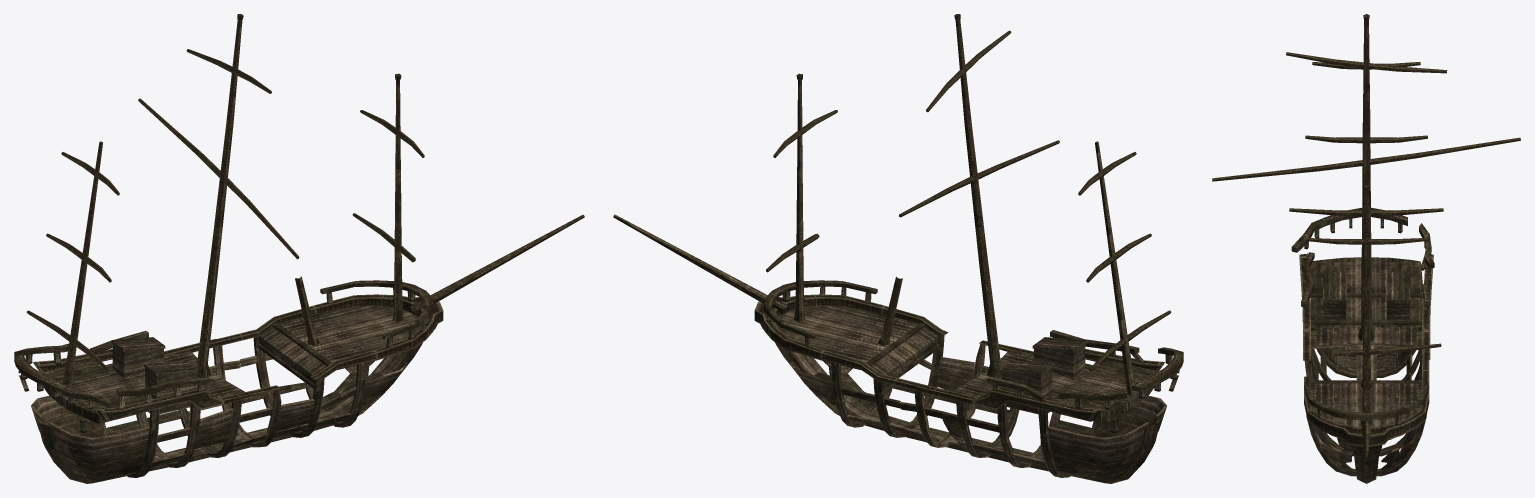
Rendered from ships_brokenbody00.glb.
The picture shows the model from 3 angles, left to right: view 1: azimuth 30°, elevation 25°; view 2: azimuth 150°, elevation 25°; view 3: azimuth 270°, elevation 25°; orthographic projection. The views are drawn at different scales.
Visible parts, largest first — view 1: fort_ship03_02, fort_ship01_02, fort_ship02_02; view 2: fort_ship03_02, fort_ship01_02, fort_ship02_02; view 3: fort_ship01_02, fort_ship03_02, fort_ship02_02.
Part boxes in pixels (bbox=[...]): fort_ship03_02: bbox=[31, 306, 437, 483]; fort_ship01_02: bbox=[14, 14, 584, 407]; fort_ship02_02: bbox=[18, 287, 443, 433]; fort_ship03_02: bbox=[760, 306, 1166, 483]; fort_ship01_02: bbox=[613, 14, 1183, 401]; fort_ship02_02: bbox=[754, 286, 1179, 433]; fort_ship01_02: bbox=[1212, 14, 1520, 456]; fort_ship03_02: bbox=[1304, 257, 1426, 483]; fort_ship02_02: bbox=[1299, 218, 1433, 446].
Bounding box in the file's own units: 47.72 × 35.3 × 23.39.
Materials: 2 (2 with a texture image).
